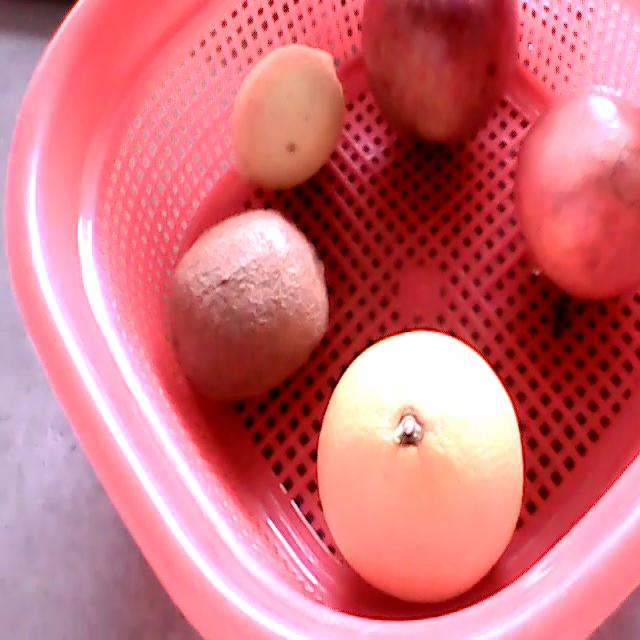apple: (360, 0, 519, 145)
kiwi: (164, 208, 329, 402)
lemon: (228, 43, 345, 187)
orange: (317, 327, 523, 586)
pomegranate: (511, 86, 639, 301)
